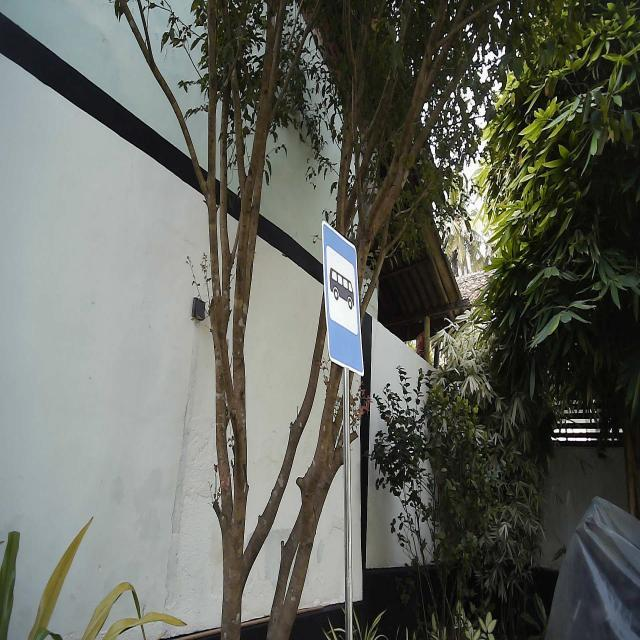bus_stop: (320, 218, 366, 378)
